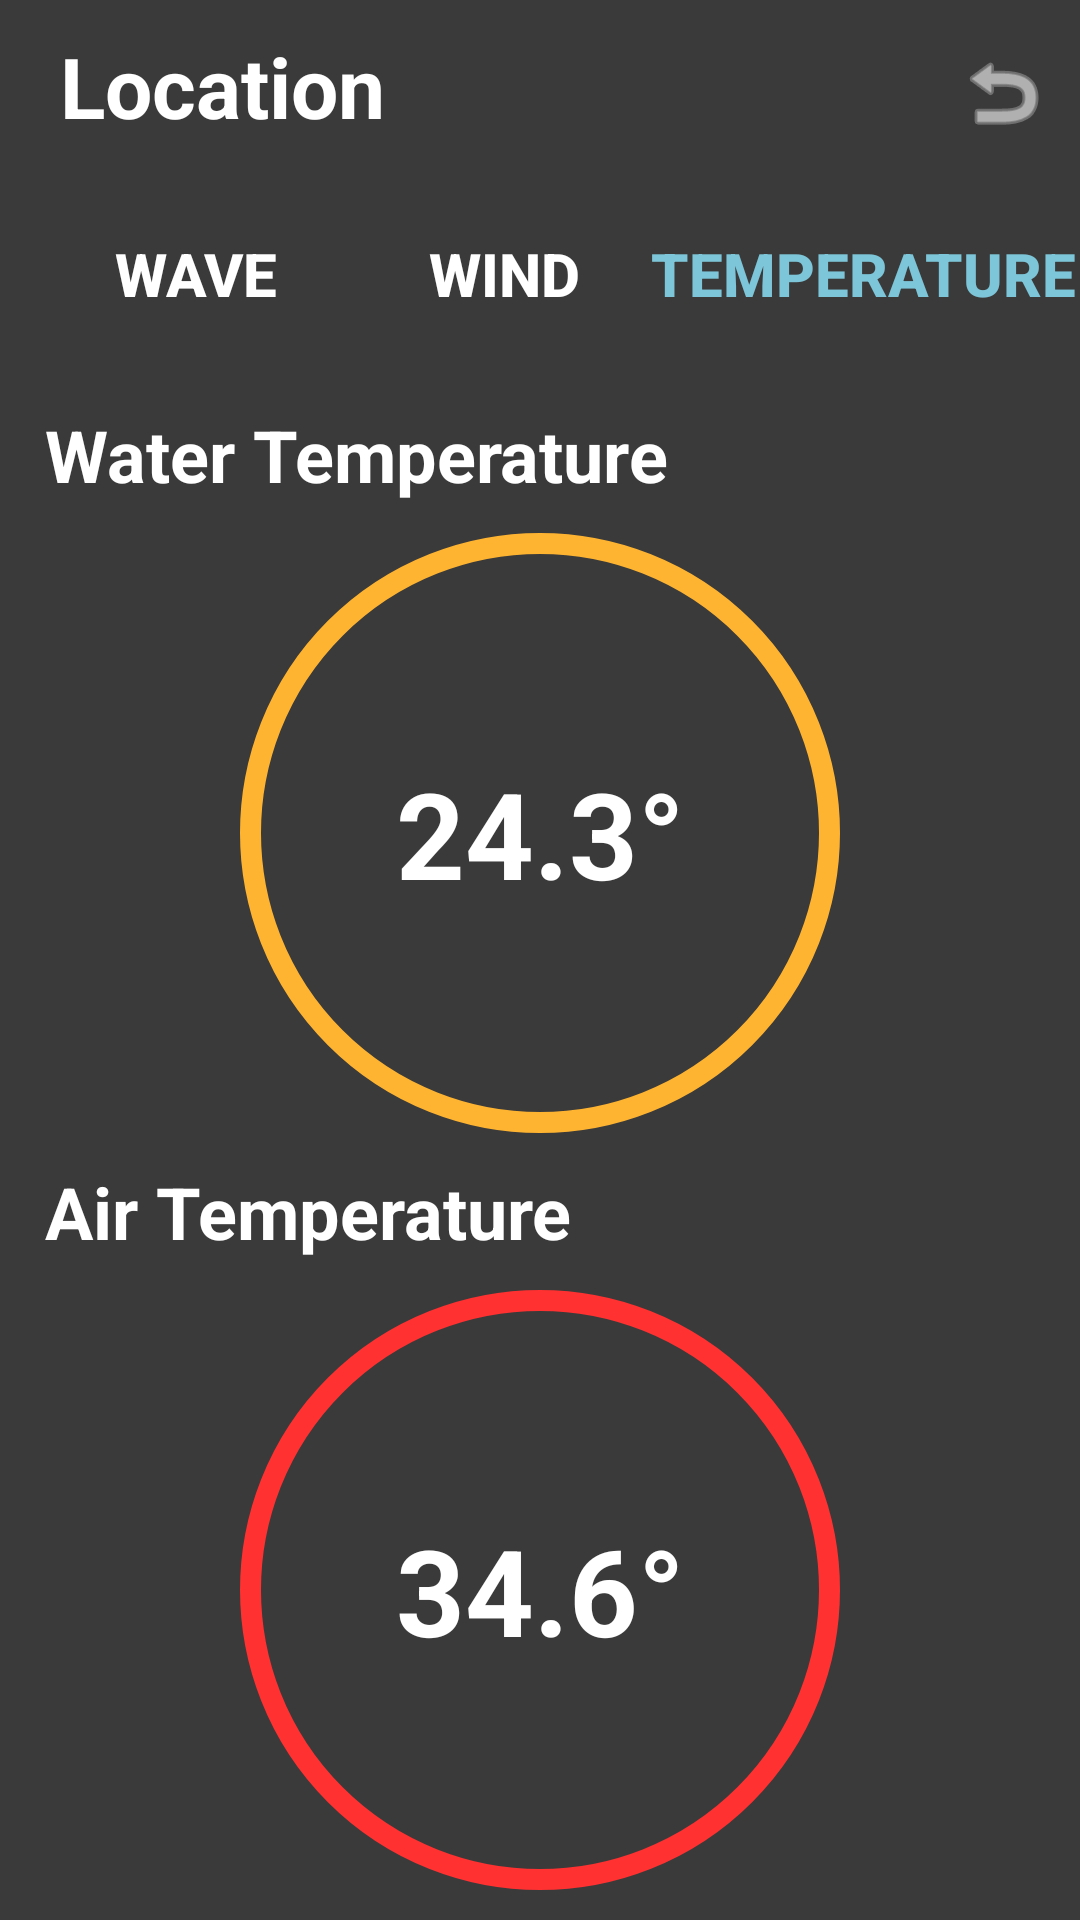

Locate icon controls on the screen. Image size 1080w x 1920h, boxes as (x1, y1, x2, y2).
revert: (970, 63, 1039, 125)
